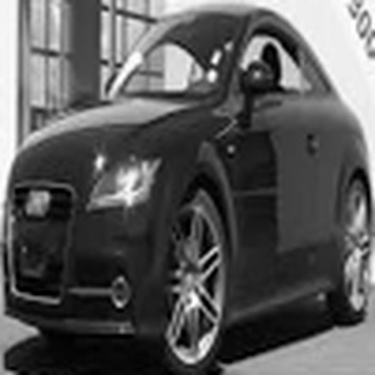car: (1, 2, 373, 357)
